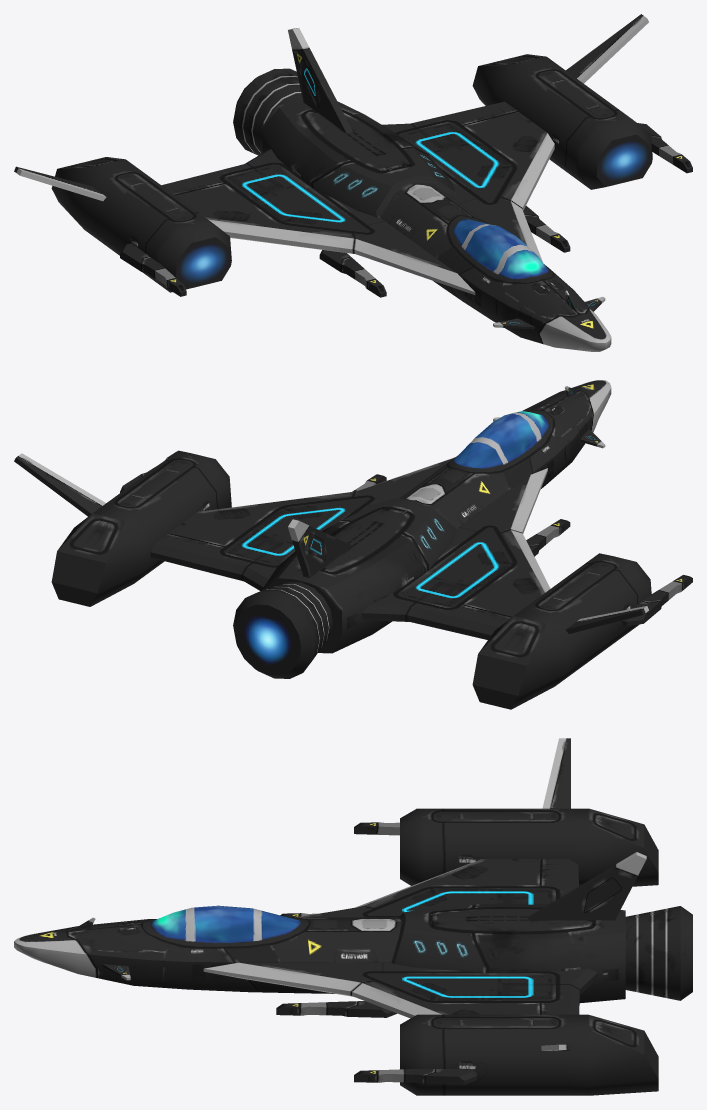
The model's file is BlackL1M1R1.fbx.
The picture shows the model from 3 angles, top to bottom: view 1: azimuth 30°, elevation 25°; view 2: azimuth 150°, elevation 25°; view 3: azimuth 270°, elevation 25°; orthographic projection.
Visible parts, largest first — view 1: StarSparrow02; view 2: StarSparrow02; view 3: StarSparrow02.
Part boxes in pixels (box(x1,y1,x2,y2)): StarSparrow02: box(14, 14, 692, 351); StarSparrow02: box(14, 380, 692, 709); StarSparrow02: box(14, 738, 692, 1095).
Bounding box in the file's own units: 1166 × 252 × 1085.
1 material, 1 textured.
